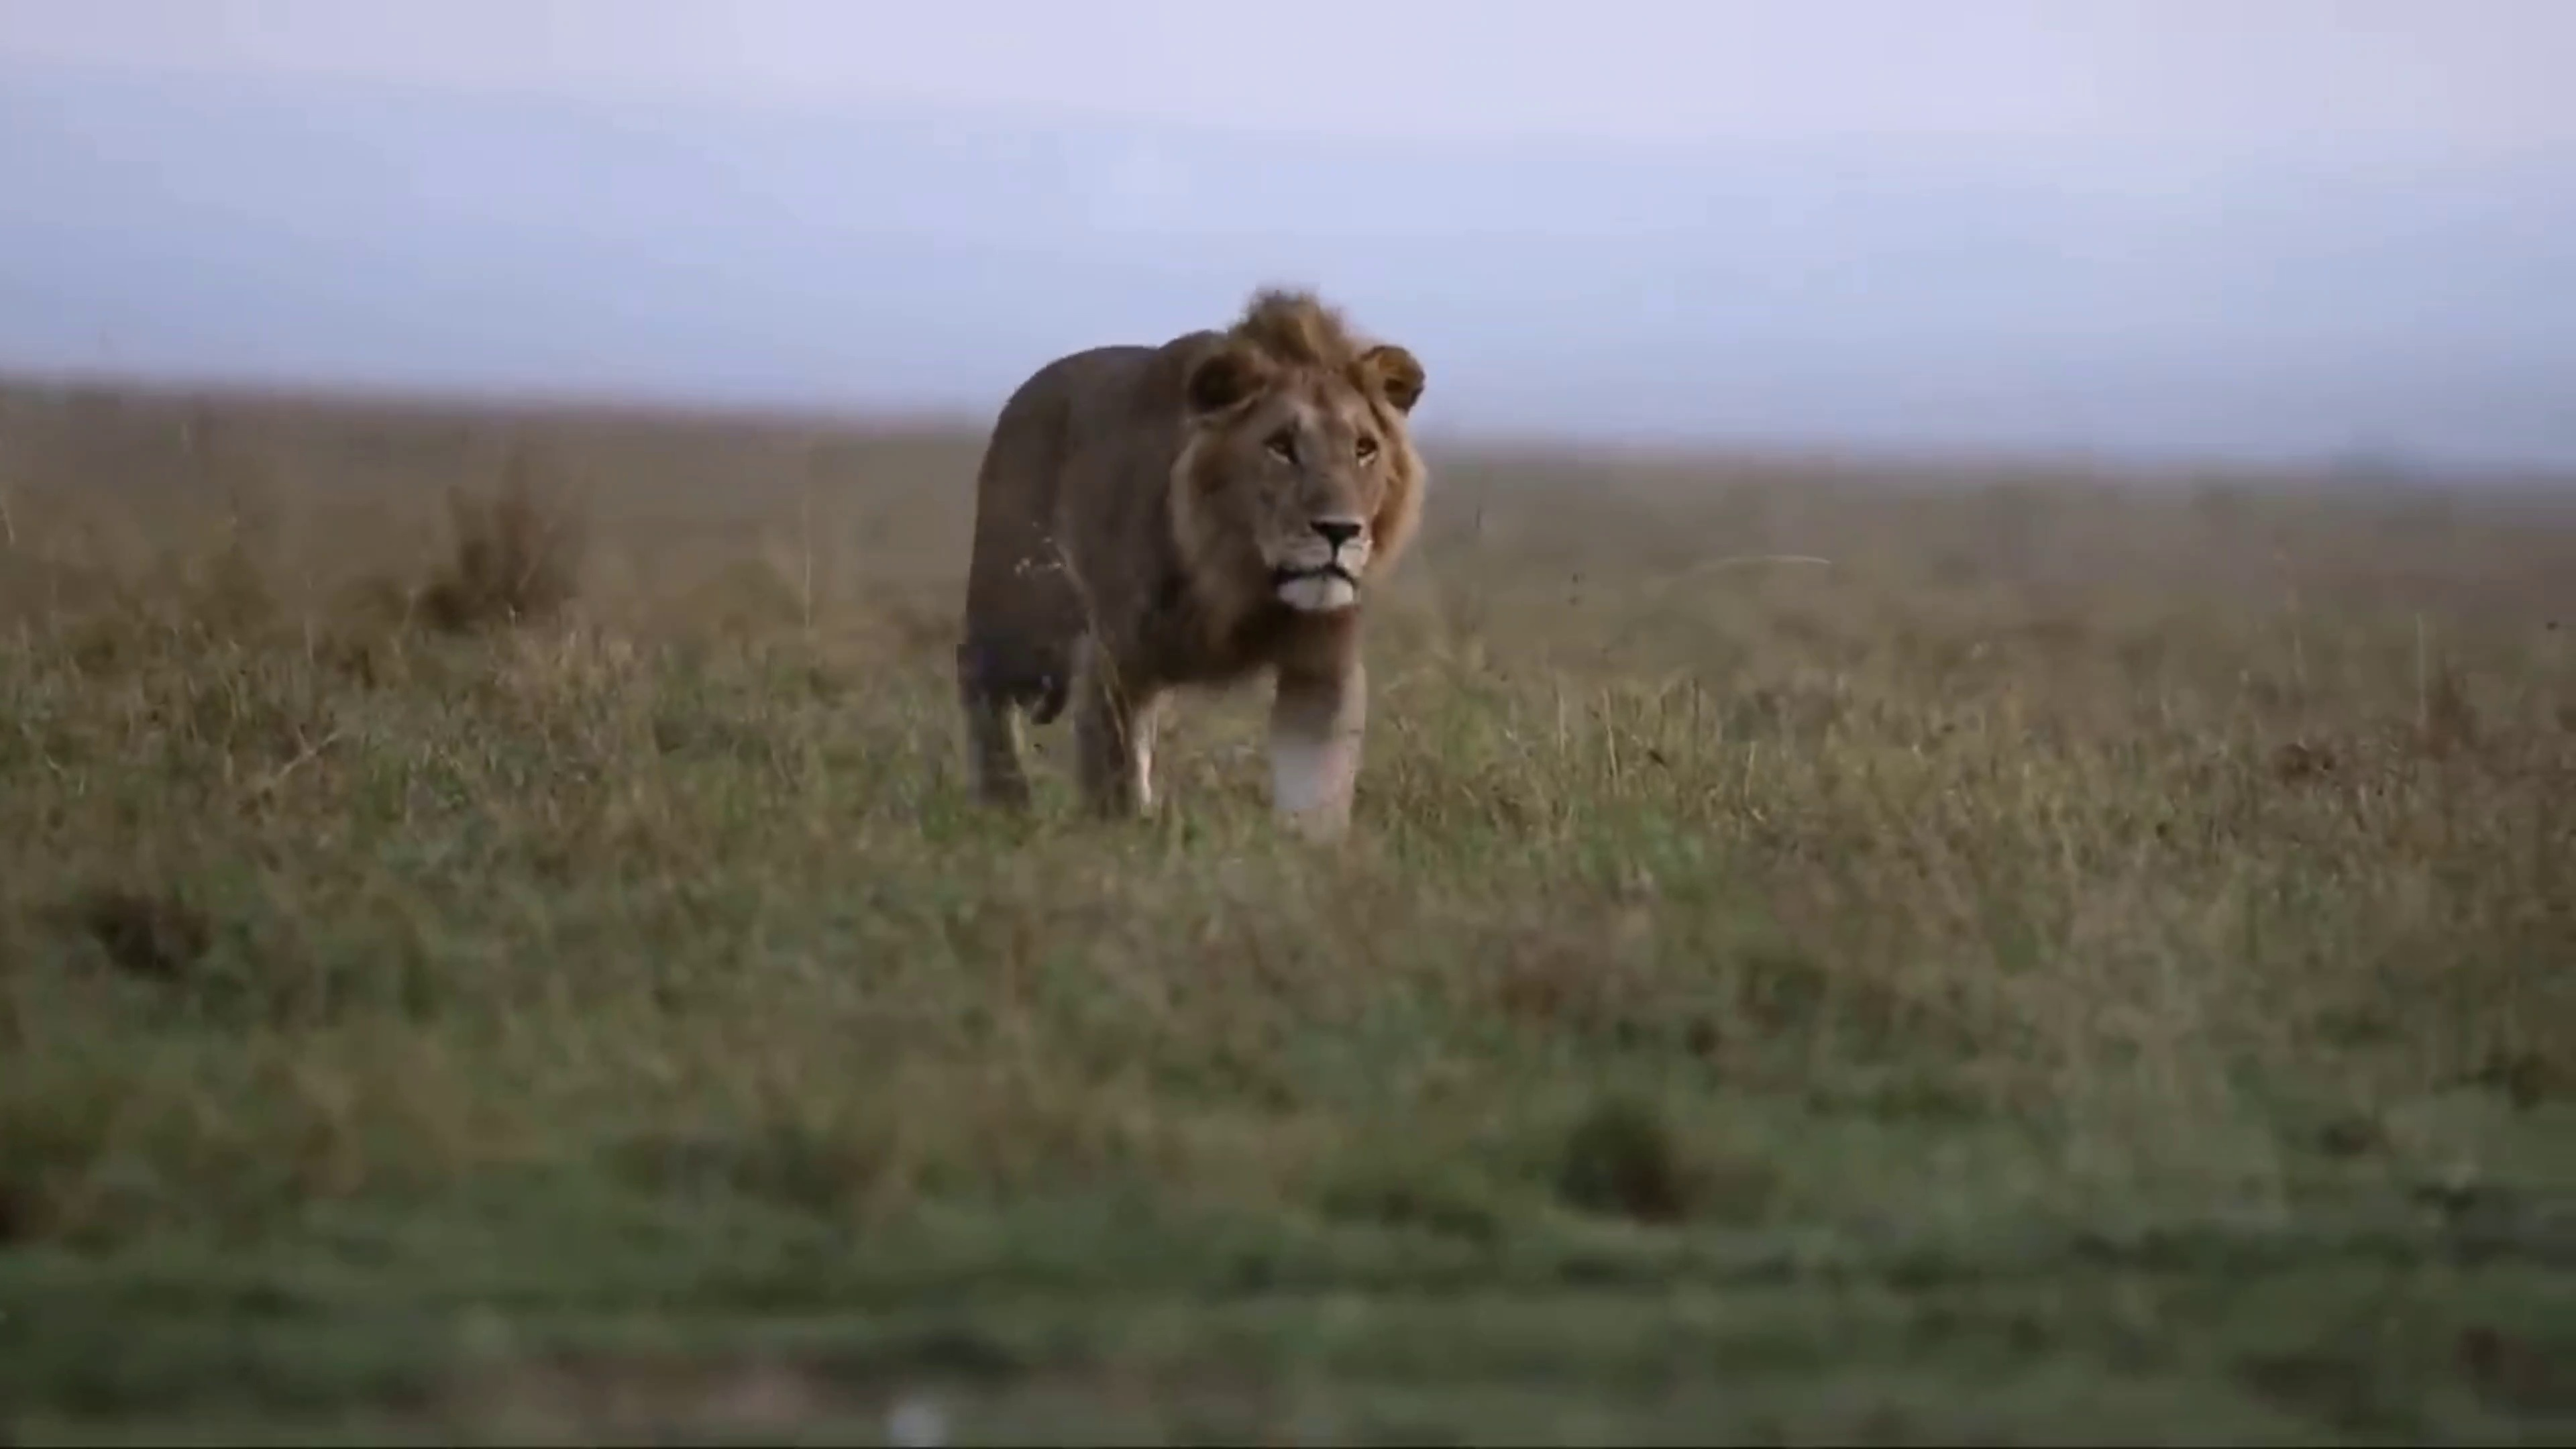Lion: (955, 288, 1428, 855)
